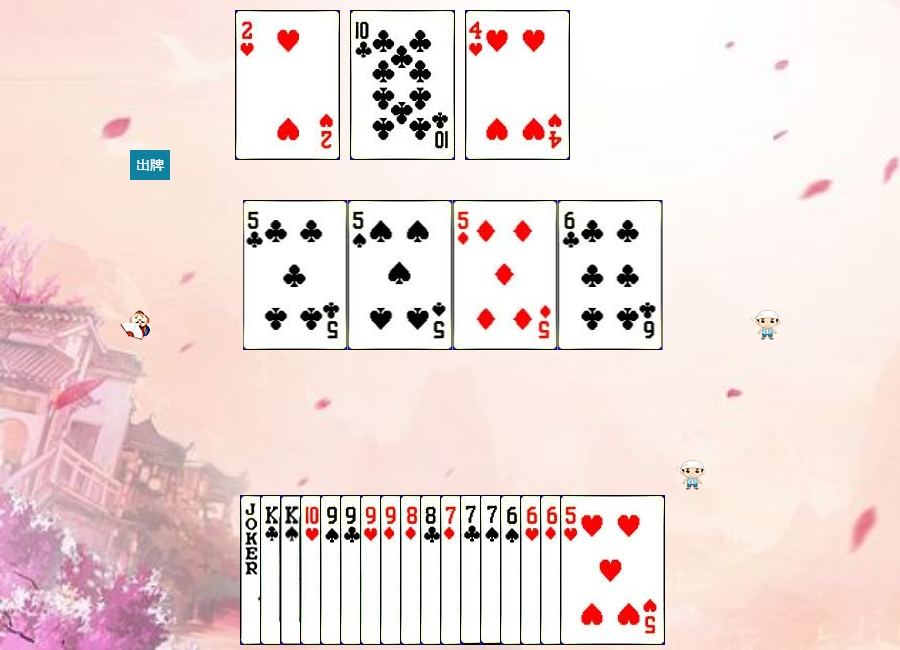10~2: (350, 10, 455, 160)
10~3: (300, 495, 405, 645)
13~2: (260, 495, 365, 645)
13~4: (280, 495, 385, 645)
15~3: (235, 10, 340, 160)
17~3: (240, 495, 345, 645)
4~3: (465, 10, 570, 160)
5~1: (453, 200, 558, 350)
5~2: (243, 200, 348, 350)
5~3: (560, 495, 665, 645)
5~4: (348, 200, 453, 350)
6~1: (540, 495, 645, 645)
6~2: (558, 200, 663, 350)
6~3: (520, 495, 625, 645)
6~4: (500, 495, 605, 645)
7~1: (440, 495, 545, 645)
7~2: (460, 495, 565, 645)
7~4: (480, 495, 585, 645)
8~1: (400, 495, 505, 645)
8~2: (420, 495, 525, 645)
9~1: (380, 495, 485, 645)
9~2: (340, 495, 445, 645)
9~3: (360, 495, 465, 645)
9~4: (320, 495, 425, 645)
